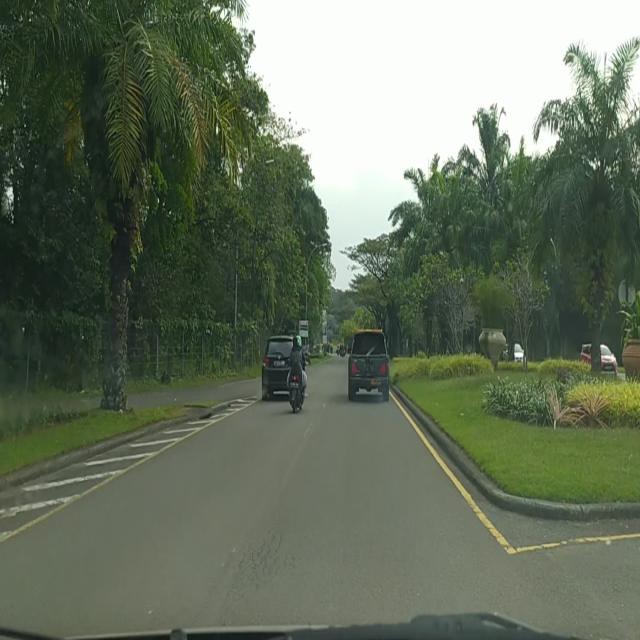Drain Hole: (226, 519, 302, 591)
